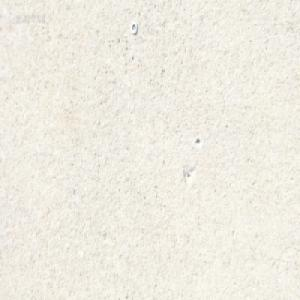Washer: (130, 20, 138, 34)
